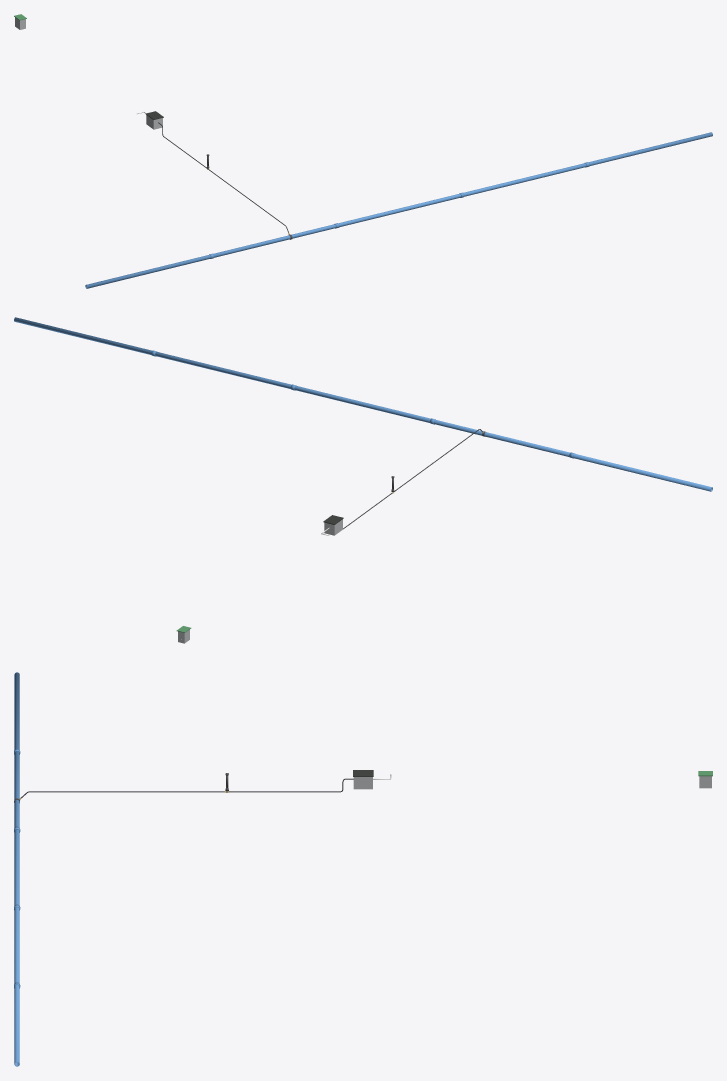
The model's file is slab_pipes_supply__water-city_filter.glb.
3 views of the same model, one above another, from view 1: azimuth 30°, elevation 25°; view 2: azimuth 150°, elevation 25°; view 3: azimuth 270°, elevation 25° (orthographic). The views are drawn at different scales.
Visible parts, largest first — view 1: city_water_main; view 2: city_water_main; view 3: city_water_main.
Boxes of the visible parts, left/top/right/bottom form: city_water_main: left=85, top=132, right=712, bottom=288; city_water_main: left=14, top=317, right=712, bottom=491; city_water_main: left=14, top=672, right=20, bottom=1066.
Size of the model in its own units: 30.48 by 1.15 by 23.12.
